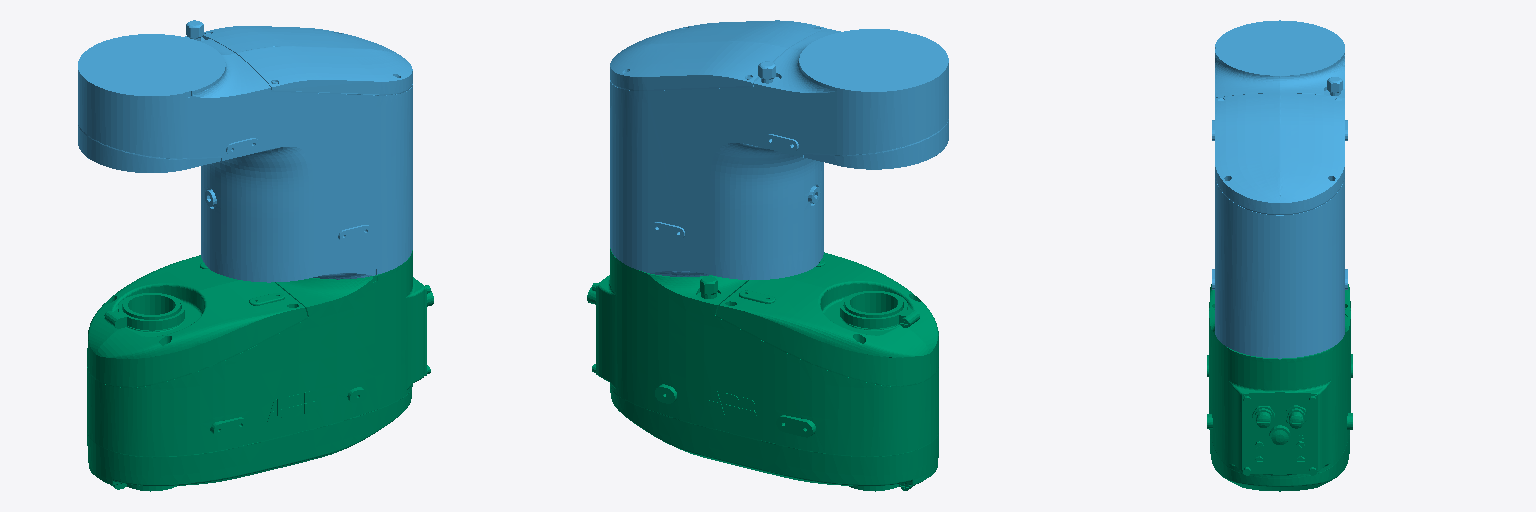
robot.urdf — IRB910INV_350:
<?xml version="1.0" ?>
<robot name="IRB910INV_350">

<link name="base_link">
  <inertial>
    <origin xyz="-0.03428217335737813 -2.4667588020476706e-07 0.08971070325608167" rpy="0 0 0"/>
    <mass value="47.926347738289834"/>
    <inertia ixx="0.305149" iyy="0.354553" izz="0.217137" ixy="-4e-06" iyz="9.8e-05" ixz="0.004008"/>
  </inertial>
  <visual>
    <origin xyz="0 0 0" rpy="0 0 0"/>
    <geometry>
      <mesh filename="meshes/base_link.stl" scale="0.001 0.001 0.001"/>
    </geometry>
  </visual>
  <collision>
    <origin xyz="0 0 0" rpy="0 0 0"/>
    <geometry>
      <mesh filename="meshes/base_link.stl" scale="0.001 0.001 0.001"/>
    </geometry>
  </collision>
</link>

<link name="Link1_C350_IP54CR_1">
  <inertial>
    <origin xyz="0.11275513176109886 1.7513838112814044e-05 -0.0951509538380555" rpy="0 0 0"/>
    <mass value="33.86232074637399"/>
    <inertia ixx="0.142639" iyy="0.278472" izz="0.206182" ixy="2.3e-05" iyz="-2.8e-05" ixz="0.067431"/>
  </inertial>
  <visual>
    <origin xyz="-0.0 -4e-06 0.0225" rpy="0 0 0"/>
    <geometry>
      <mesh filename="meshes/Link1_C350_IP54CR_1.stl" scale="0.001 0.001 0.001"/>
    </geometry>
  </visual>
  <collision>
    <origin xyz="-0.0 -4e-06 0.0225" rpy="0 0 0"/>
    <geometry>
      <mesh filename="meshes/Link1_C350_IP54CR_1.stl" scale="0.001 0.001 0.001"/>
    </geometry>
  </collision>
</link>

<link name="Link2_C350_IP54CR_1">
  <inertial>
    <origin xyz="-0.07748210763311644 2.4149022072988045e-05 -0.08074925775211947" rpy="0 0 0"/>
    <mass value="36.19533232147432"/>
    <inertia ixx="0.105427" iyy="0.262885" izz="0.242365" ixy="-1e-06" iyz="-3.7e-05" ixz="-0.014601"/>
  </inertial>
  <visual>
    <origin xyz="-0.174731 0.0 0.228" rpy="0 0 0"/>
    <geometry>
      <mesh filename="meshes/Link2_C350_IP54CR_1.stl" scale="0.001 0.001 0.001"/>
    </geometry>
  </visual>
  <collision>
    <origin xyz="-0.174731 0.0 0.228" rpy="0 0 0"/>
    <geometry>
      <mesh filename="meshes/Link2_C350_IP54CR_1.stl" scale="0.001 0.001 0.001"/>
    </geometry>
  </collision>
</link>

<link name="Link4_C350_IP54CR_1">
  <inertial>
    <origin xyz="2.217347784446274e-06 -6.636237422544021e-06 -0.13387670086396194" rpy="0 0 0"/>
    <mass value="0.7548467951787753"/>
    <inertia ixx="0.011663" iyy="0.011663" izz="9.1e-05" ixy="0.0" iyz="-0.0" ixz="0.0"/>
  </inertial>
  <visual>
    <origin xyz="0.0 -7e-06 0.158" rpy="0 0 0"/>
    <geometry>
      <mesh filename="meshes/Link4_C350_IP54CR_1.stl" scale="0.001 0.001 0.001"/>
    </geometry>
  </visual>
  <collision>
    <origin xyz="0.0 -7e-06 0.158" rpy="0 0 0"/>
    <geometry>
      <mesh filename="meshes/Link4_C350_IP54CR_1.stl" scale="0.001 0.001 0.001"/>
    </geometry>
  </collision>
</link>

<joint name="j1" type="continuous">
  <origin xyz="0.0 4e-06 -0.0225" rpy="0 0 0"/>
  <parent link="base_link"/>
  <child link="Link1_C350_IP54CR_1"/>
  <axis xyz="0.0 0.0 -1.0"/>
</joint>

<joint name="j2" type="continuous">
  <origin xyz="0.174731 -4e-06 -0.2055" rpy="0 0 0"/>
  <parent link="Link1_C350_IP54CR_1"/>
  <child link="Link2_C350_IP54CR_1"/>
  <axis xyz="0.0 0.0 -1.0"/>
</joint>

<joint name="j3" type="prismatic">
  <origin xyz="-0.174731 7e-06 0.07" rpy="0 0 0"/>
  <parent link="Link2_C350_IP54CR_1"/>
  <child link="Link4_C350_IP54CR_1"/>
  <axis xyz="0.0 0.0 1.0"/>
  <limit upper="0.0" lower="0.0" effort="100" velocity="100"/>
</joint>

<transmission name="j1_tran">
  <type>transmission_interface/SimpleTransmission</type>
  <joint name="j1">
    <hardwareInterface>hardware_interface/EffortJointInterface</hardwareInterface>
  </joint>
  <actuator name="j1_actr">
    <hardwareInterface>hardware_interface/EffortJointInterface</hardwareInterface>
    <mechanicalReduction>1</mechanicalReduction>
  </actuator>
</transmission>

<transmission name="j2_tran">
  <type>transmission_interface/SimpleTransmission</type>
  <joint name="j2">
    <hardwareInterface>hardware_interface/EffortJointInterface</hardwareInterface>
  </joint>
  <actuator name="j2_actr">
    <hardwareInterface>hardware_interface/EffortJointInterface</hardwareInterface>
    <mechanicalReduction>1</mechanicalReduction>
  </actuator>
</transmission>

<transmission name="j3_tran">
  <type>transmission_interface/SimpleTransmission</type>
  <joint name="j3">
    <hardwareInterface>hardware_interface/EffortJointInterface</hardwareInterface>
  </joint>
  <actuator name="j3_actr">
    <hardwareInterface>hardware_interface/EffortJointInterface</hardwareInterface>
    <mechanicalReduction>1</mechanicalReduction>
  </actuator>
</transmission>

</robot>

--- What the picture shows (computed from the rendered views, not written in the file) ---
3 views of the same robot in one strip: view 1: azimuth 30°, elevation 25°; view 2: azimuth 150°, elevation 25°; view 3: azimuth 270°, elevation 25° (orthographic).
Model IRB910INV_350 with 4 links and 3 joints (2 continuous, 1 prismatic), rooted at base_link, posed all joints at 0.
Visible links, largest first — view 1: Link1_C350_IP54CR_1, Link2_C350_IP54CR_1; view 2: Link1_C350_IP54CR_1, Link2_C350_IP54CR_1; view 3: Link1_C350_IP54CR_1, Link2_C350_IP54CR_1.
Boxes of the visible links, x1,y1,x2,y2 form: Link1_C350_IP54CR_1: [78, 20, 412, 282]; Link2_C350_IP54CR_1: [87, 250, 433, 491]; Link1_C350_IP54CR_1: [610, 20, 948, 279]; Link2_C350_IP54CR_1: [587, 248, 938, 491]; Link1_C350_IP54CR_1: [1212, 20, 1347, 358]; Link2_C350_IP54CR_1: [1207, 284, 1352, 491].
Size in the robot's own frame: 0.3147 by 0.134 by 0.3715 metres.
2 mesh visuals loaded from 4 distinct referenced files (2 binary STL); not drawn: 2 (reference not matched to a file when rendering).